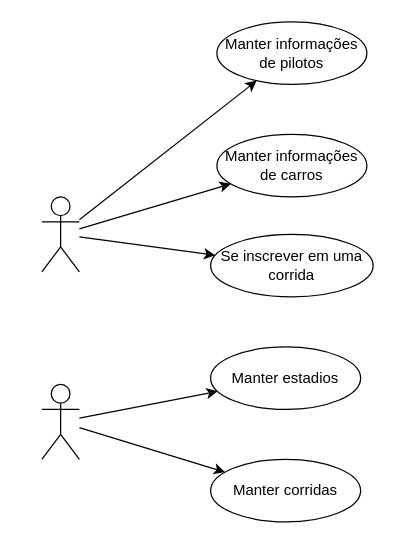
Some shapes in this 395 by 544 pixel diagram are drawn without their labels. Each missing label, with the centre of its shape:
"Funcionario" belongs at pixel 60 421.
"Piloto" belongs at pixel 60 234.
